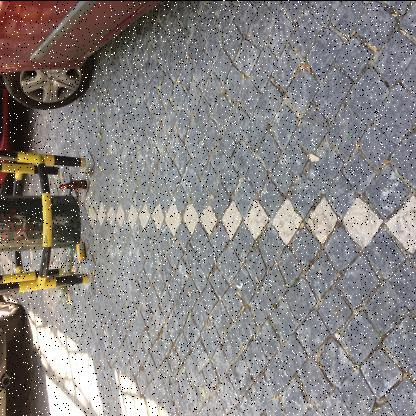glass: (59, 178, 87, 190)
metal: (76, 242, 86, 261)
